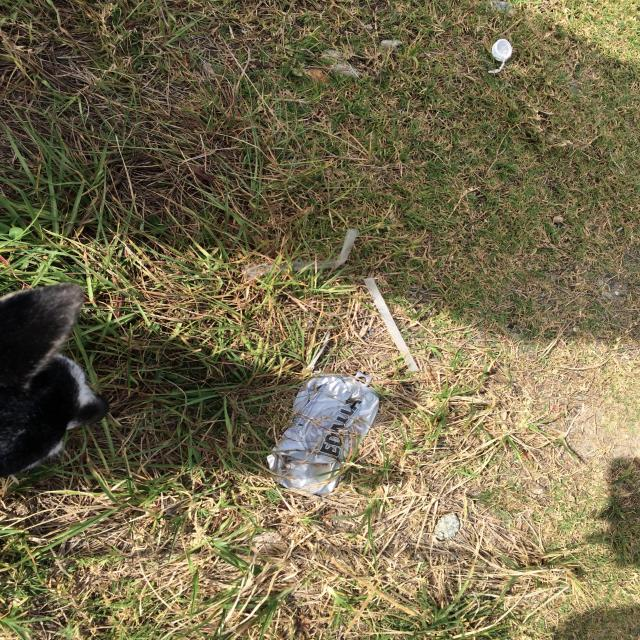litter: (499, 196, 640, 284), (365, 162, 501, 208), (48, 93, 81, 111)
